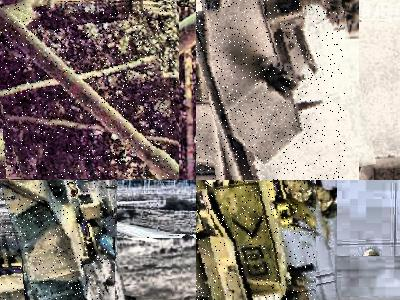tanks: (1, 2, 179, 179), (197, 1, 346, 181), (197, 181, 316, 300), (1, 181, 116, 300)
